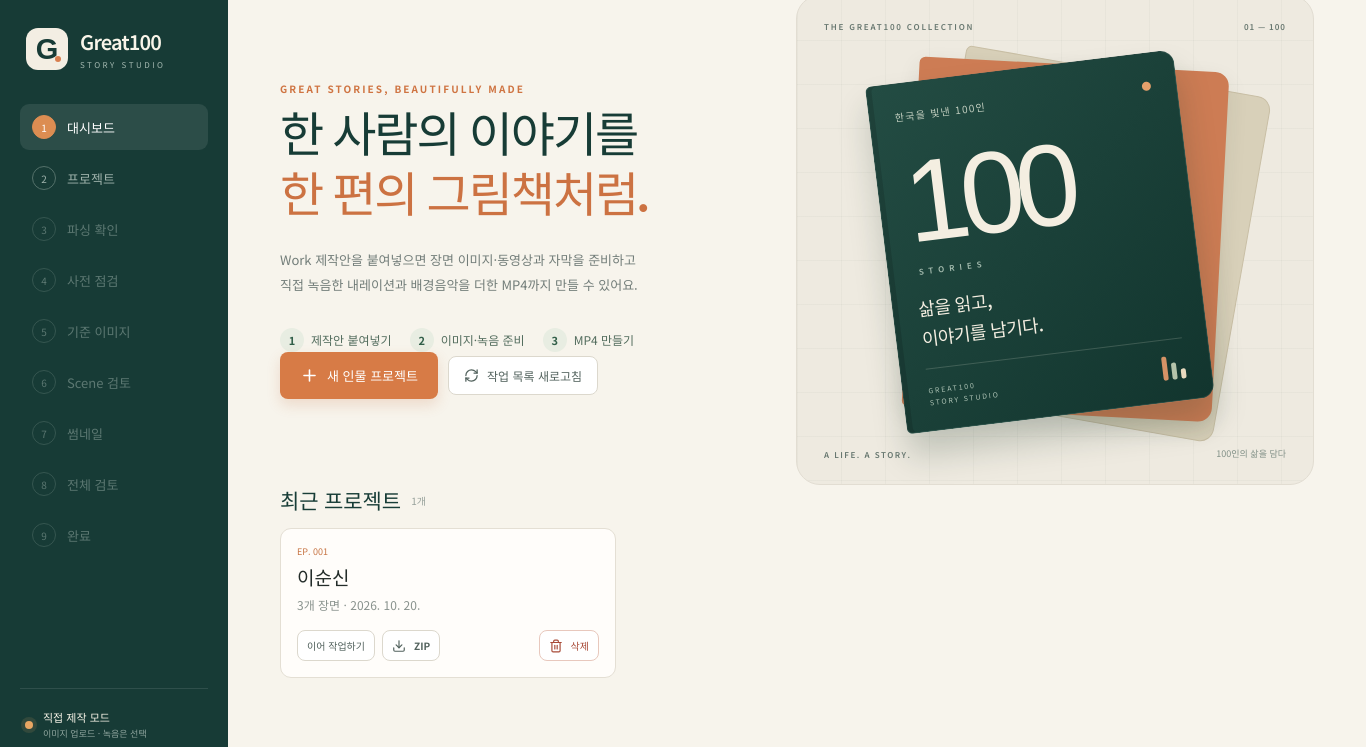
keeps an unsupported future-format project on the dashboard without mounting its editor
(page scrolled)
Step 1. Click the button "이어 작업하기" → (336, 646), box [297,630,375,661]
(page scrolled)
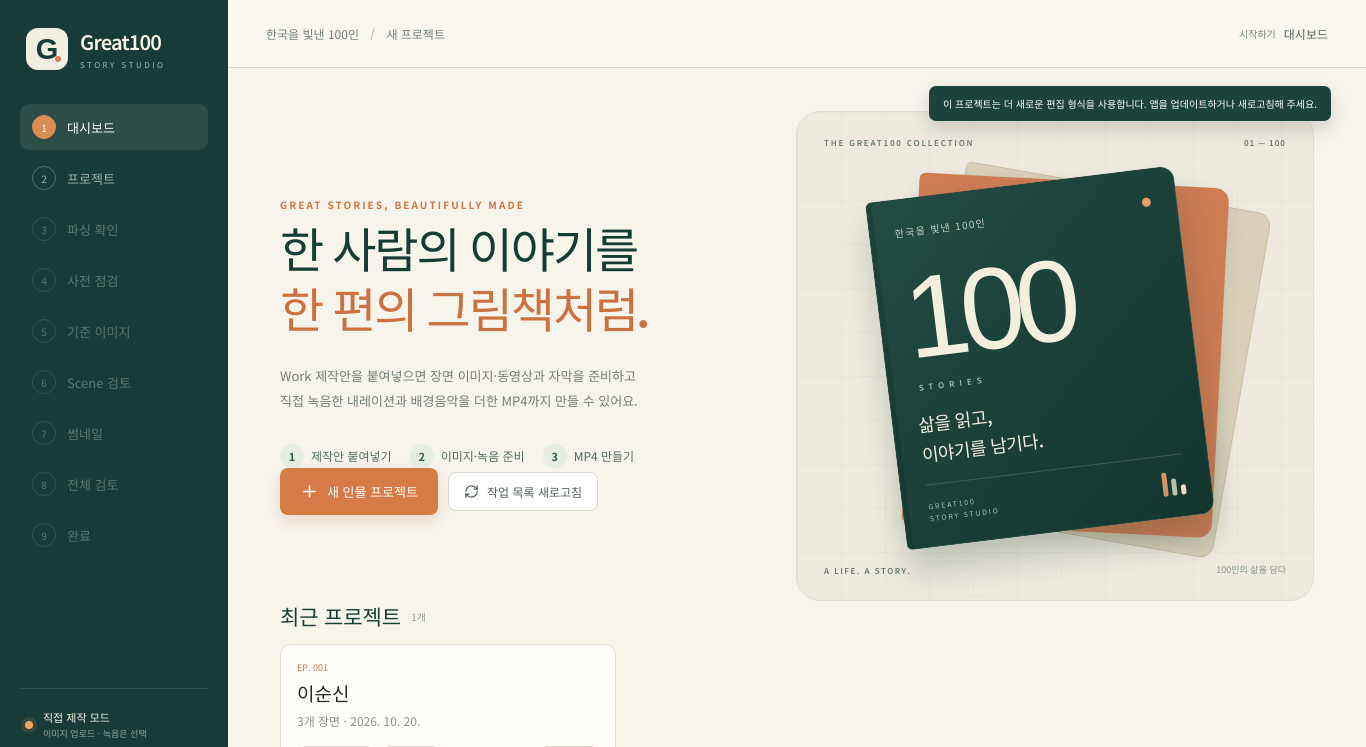
Expected: the text "이 프로젝트는 더 새로운 편집 형식을 사용합니다. 앱을 업데이트하거나 새로고침해 주세요." is shown, [929,86,1331,121]
